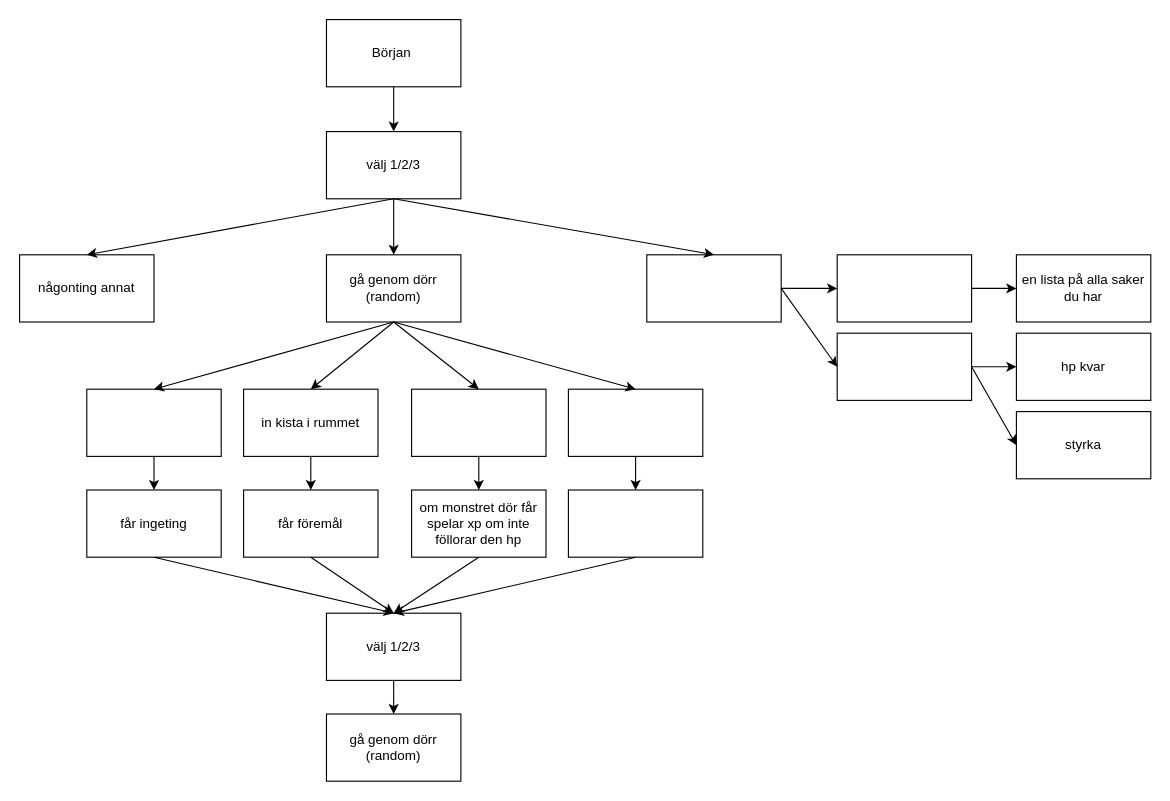
Image size: 1170x801. Some labels were removed from this diagram. Here are the shapes that lost their labels. From the top down, the centre of each, then its label:
the point at 713,288: kolla inventory/stats
the point at 904,288: kolla invontory
the point at 904,366: kolla stats
the point at 153,422: inget i rummet
the point at 478,422: möter ett monster i rummet
the point at 635,422: fälla
the point at 635,523: förlorar hp
